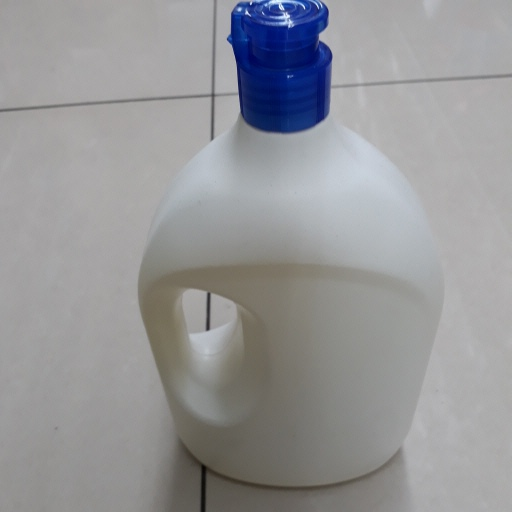Plastic_1: (141, 1, 445, 490)
